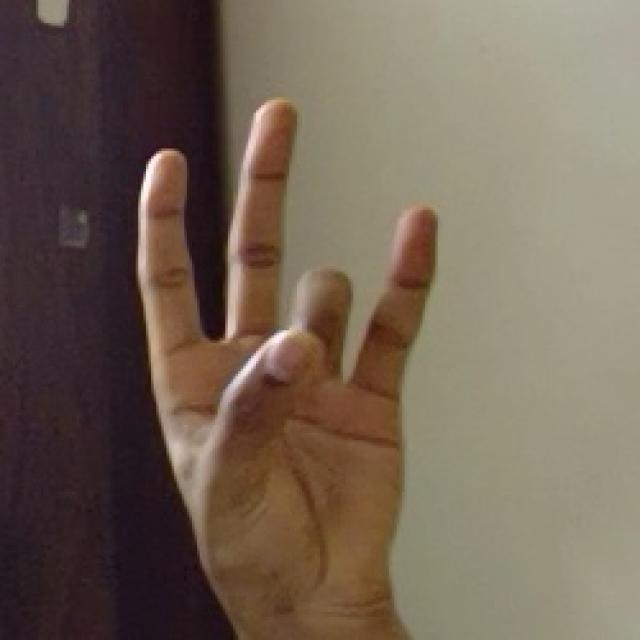Numeric-7: (135, 93, 439, 625)
